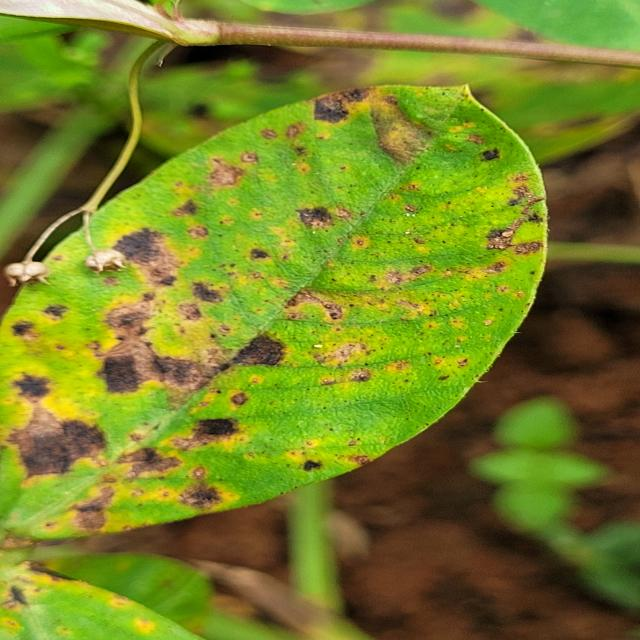Ground nut_tikka leaf spot: (0, 76, 549, 552)
